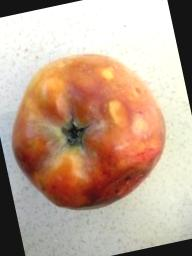Apple Overripe: (0, 29, 186, 234)
